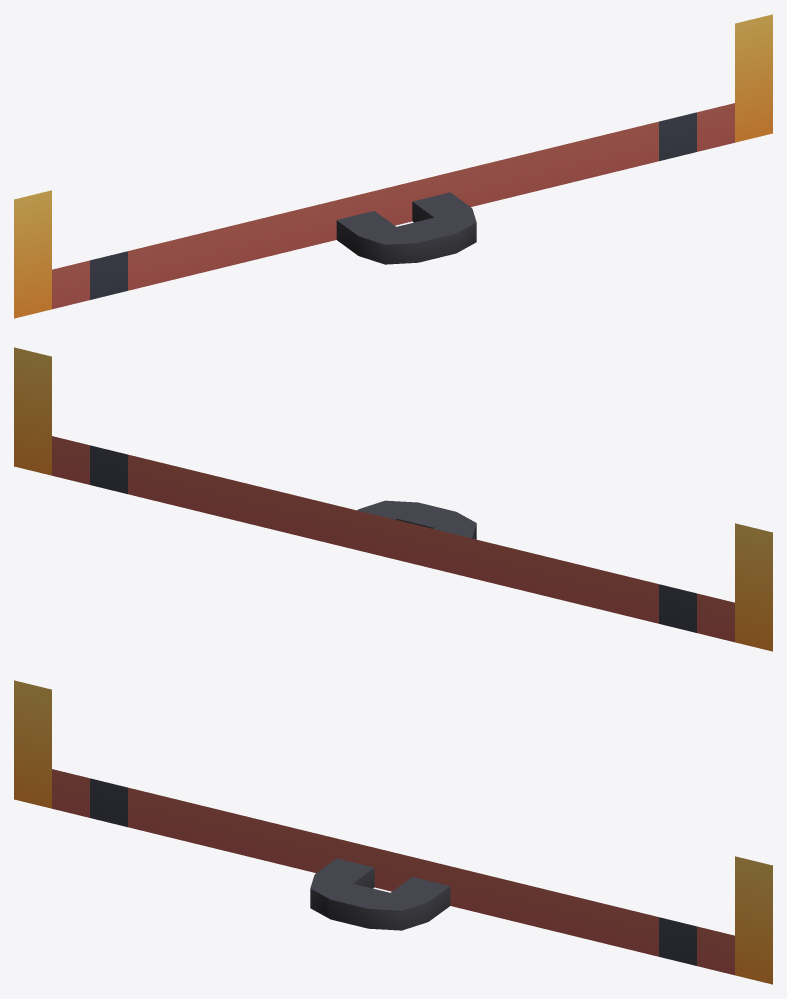
The model's file is track-road-wide-cap-back.fbx.
The picture shows the model from 3 angles, top to bottom: view 1: azimuth 30°, elevation 25°; view 2: azimuth 150°, elevation 25°; view 3: azimuth 330°, elevation 25°; orthographic projection.
Parts seen in each view (by area): view 1: track-road-wide-cap-back; view 2: track-road-wide-cap-back; view 3: track-road-wide-cap-back.
Part boxes in pixels (box(x1,y1,x2,y2)): track-road-wide-cap-back: box(14, 14, 772, 318); track-road-wide-cap-back: box(14, 347, 772, 651); track-road-wide-cap-back: box(14, 680, 772, 984).
Size of the model in its own units: 200 by 30 by 20.
